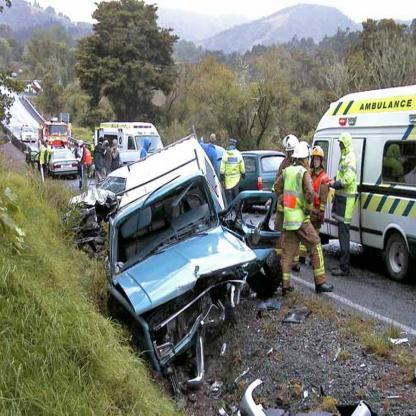face: (314, 155, 321, 168), (290, 147, 297, 160), (340, 140, 346, 152)
